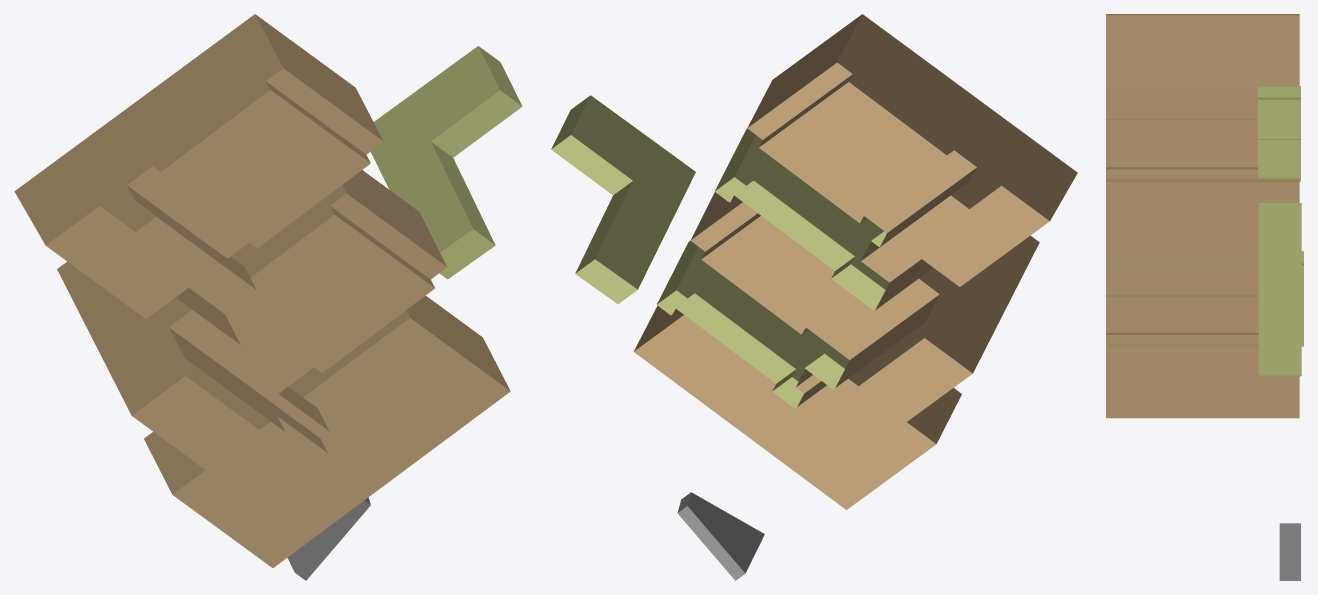
3 renders of one model, left to right at view 1: azimuth 30°, elevation 25°; view 2: azimuth 150°, elevation 25°; view 3: azimuth 270°, elevation 25°, orthographic. The views are drawn at different scales.
Parts seen in each view (by area): view 1: 0_1_0_2_2_1_0_0; view 2: 0_1_0_2_2_1_0_0; view 3: 0_1_0_2_2_1_0_0.
Boxes of the visible parts, x1,y1,x2,y2 form: 0_1_0_2_2_1_0_0: [14, 14, 522, 580]; 0_1_0_2_2_1_0_0: [551, 14, 1077, 580]; 0_1_0_2_2_1_0_0: [1106, 14, 1303, 580].
Size of the model in its own units: 75.48 by 84.31 by 27.6.
